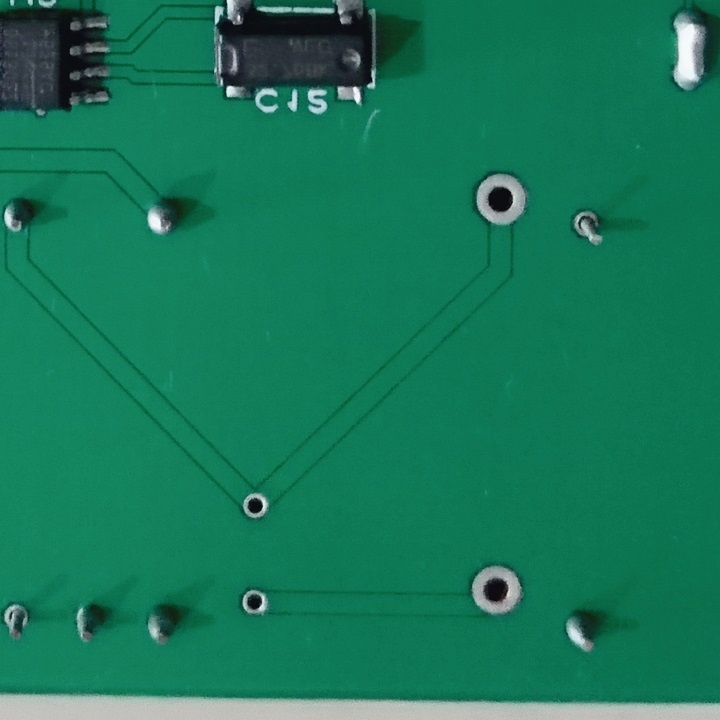F: (473, 171, 530, 231), (469, 561, 524, 619), (567, 203, 607, 249), (1, 597, 33, 643), (241, 489, 273, 522), (239, 586, 271, 618)
P: (666, 3, 713, 99)
